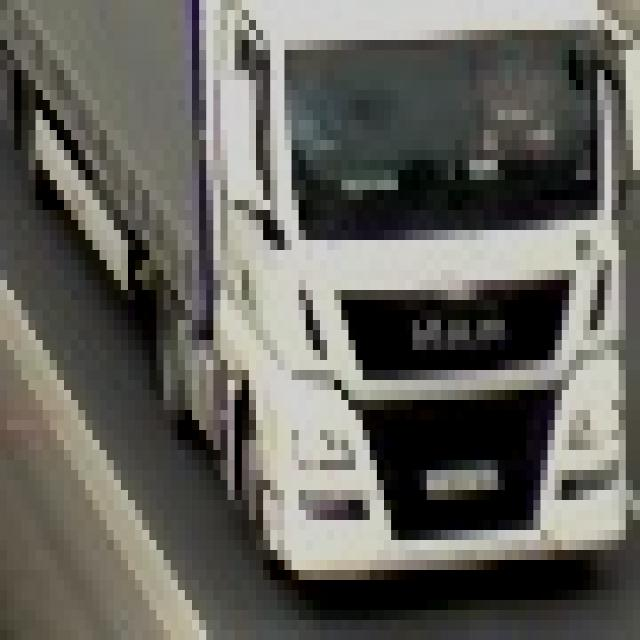TRUCK: (150, 1, 628, 587)
